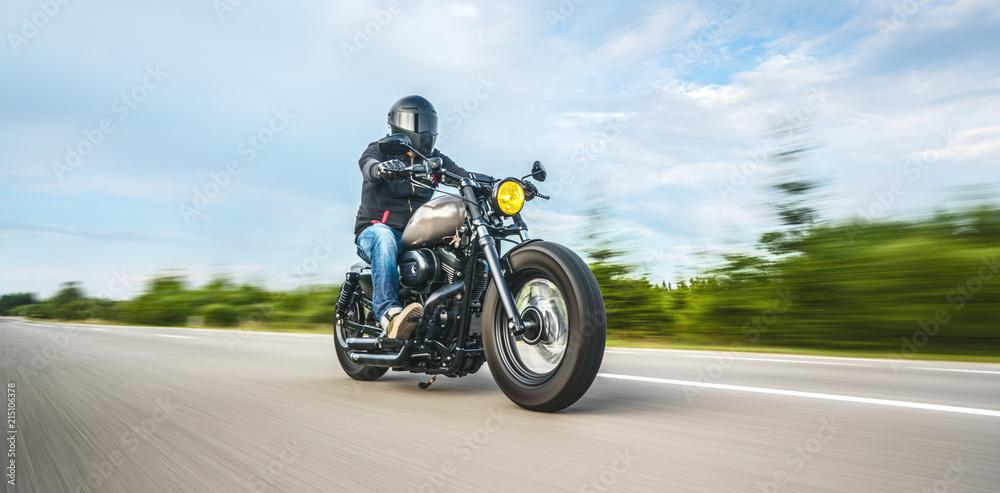helmet: (387, 94, 439, 159)
